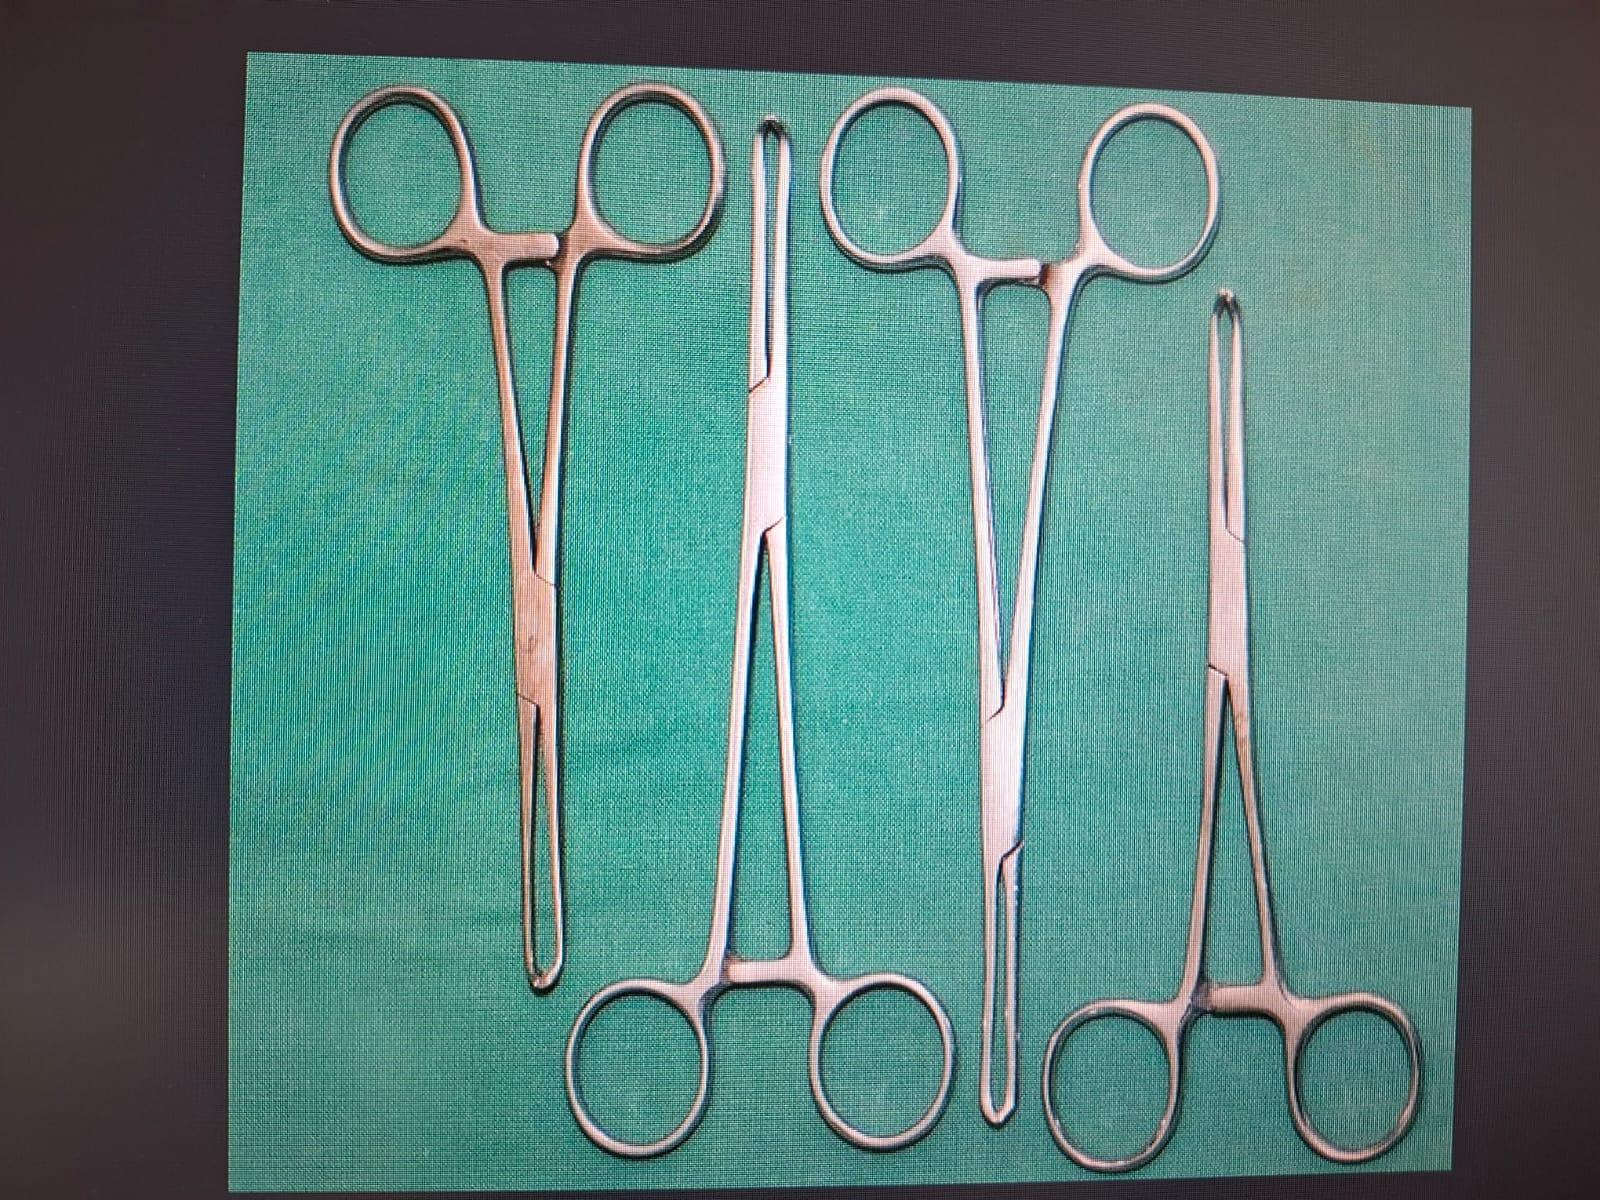Allis Forceps: (544, 102, 974, 1170), (1014, 274, 1470, 1188), (822, 78, 1214, 1132), (318, 66, 744, 1002)
